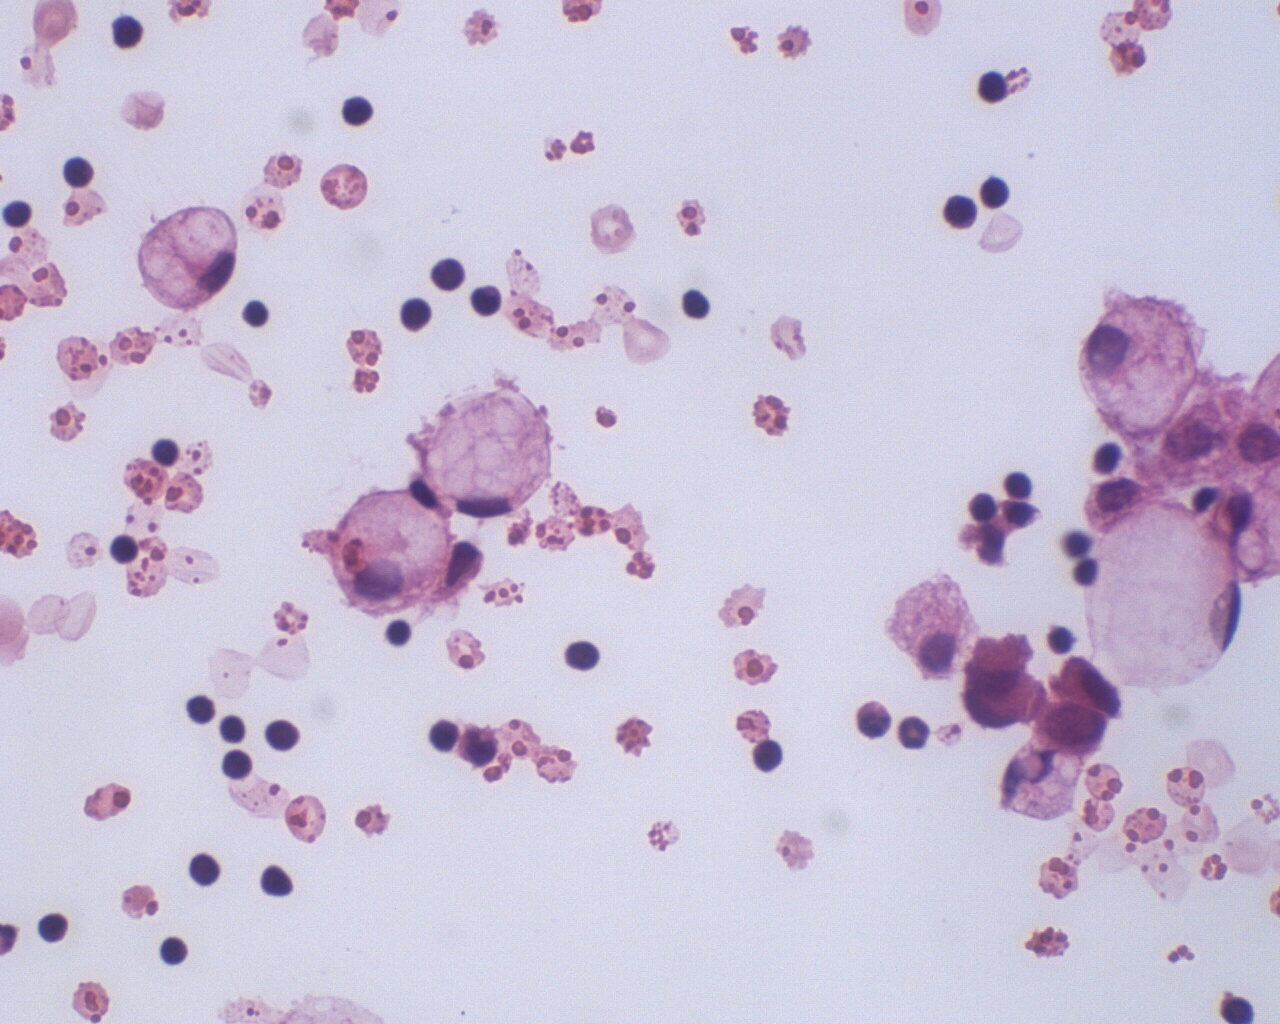ab: (1035, 696, 1110, 760)
histo: (1089, 495, 1244, 692), (424, 379, 560, 518), (1081, 286, 1201, 435), (330, 482, 456, 620), (133, 199, 238, 312)
lymph: (940, 185, 981, 237), (106, 8, 148, 56), (394, 290, 436, 339), (184, 845, 226, 892), (559, 636, 606, 675), (973, 63, 1011, 110), (745, 736, 786, 777), (264, 713, 306, 752), (34, 906, 70, 951), (183, 685, 222, 726), (339, 90, 375, 132), (60, 149, 97, 189), (104, 532, 145, 568), (158, 932, 196, 968), (1001, 466, 1035, 501)
neutro: (895, 709, 930, 751)
